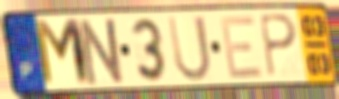3: (129, 16, 169, 84)
E: (218, 13, 265, 81)
M: (31, 17, 94, 90)
N: (78, 15, 128, 88)
P: (257, 12, 300, 80)
U: (165, 14, 213, 84)
